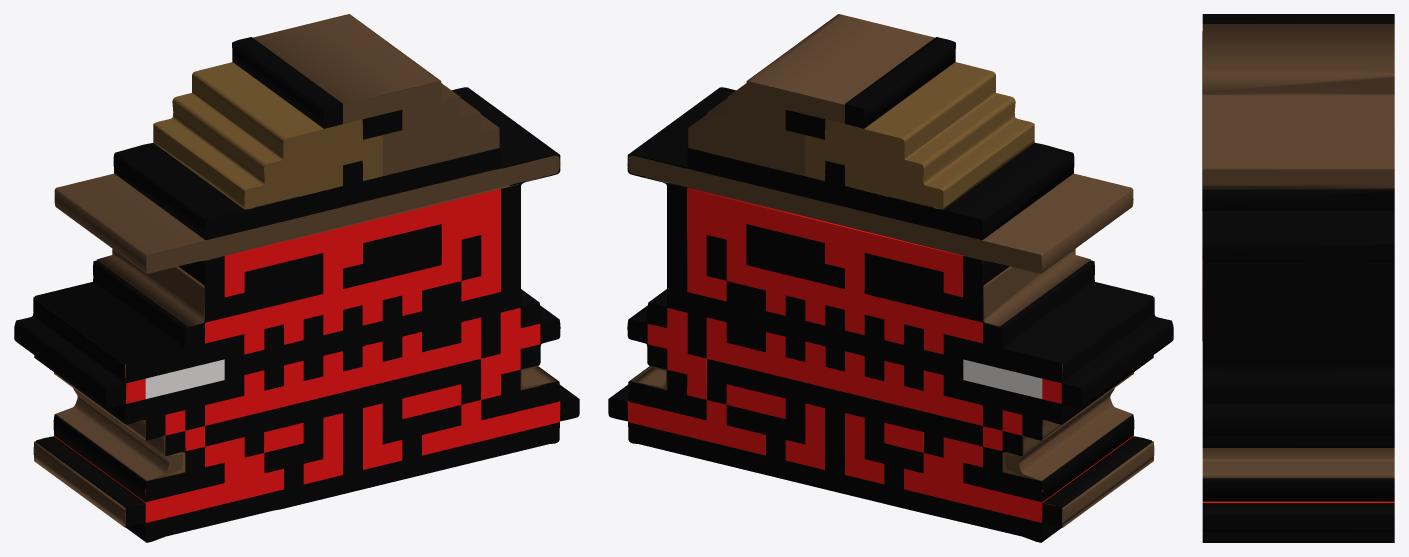
Rendered from Toadz_6397.glb.
The picture shows the model from 3 angles, left to right: view 1: azimuth 30°, elevation 25°; view 2: azimuth 150°, elevation 25°; view 3: azimuth 270°, elevation 25°; orthographic projection. The views are drawn at different scales.
Parts seen in each view (by area): view 1: Curve; view 2: Curve; view 3: Curve.
Part boxes in pixels (left/top/right/bottom): Curve: left=14, top=14, right=579, bottom=542; Curve: left=608, top=14, right=1173, bottom=542; Curve: left=1202, top=14, right=1394, bottom=542.
Size of the model in its own units: 2.99 by 2.36 by 1.
